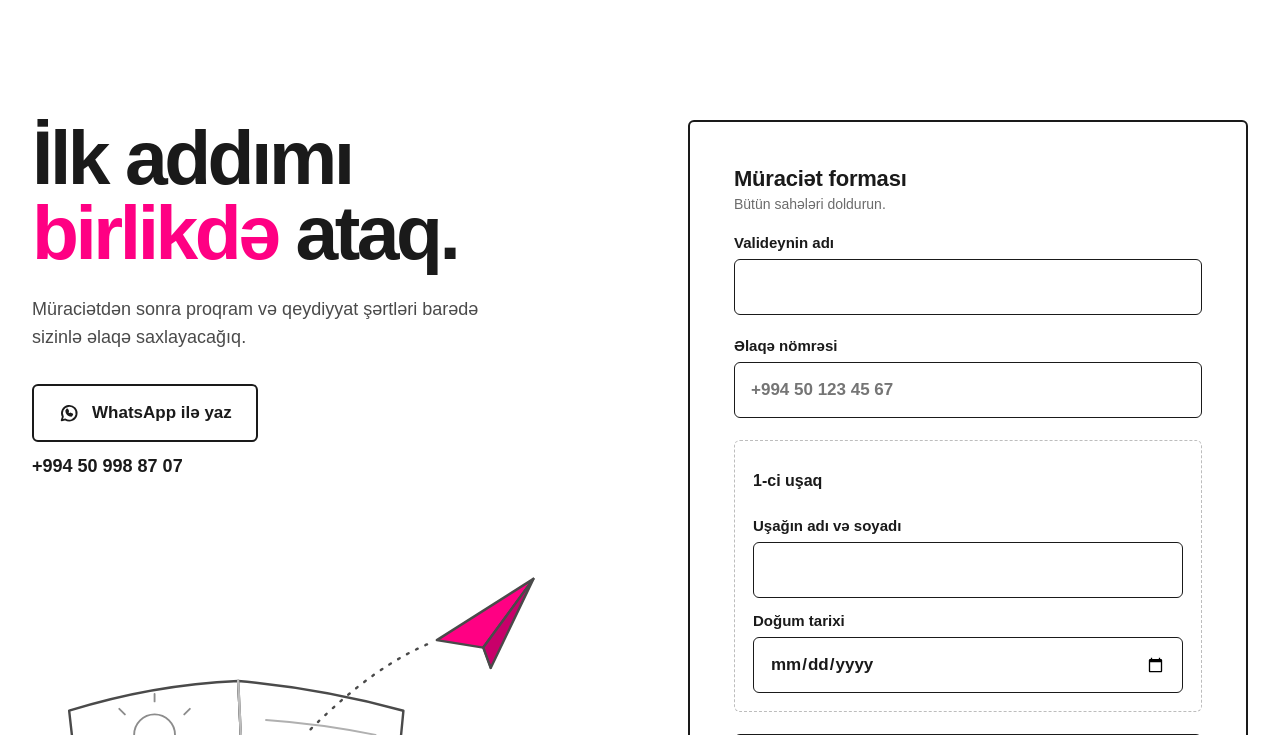
Test: Apply form › children › computes age correctly around the birthday (programme starts 5 December 2026)
The image size is (1280, 735).
Type "2018-12-05" into the date field labelled "Doğum tarixi" at [968, 665], box [753,637,1183,693]
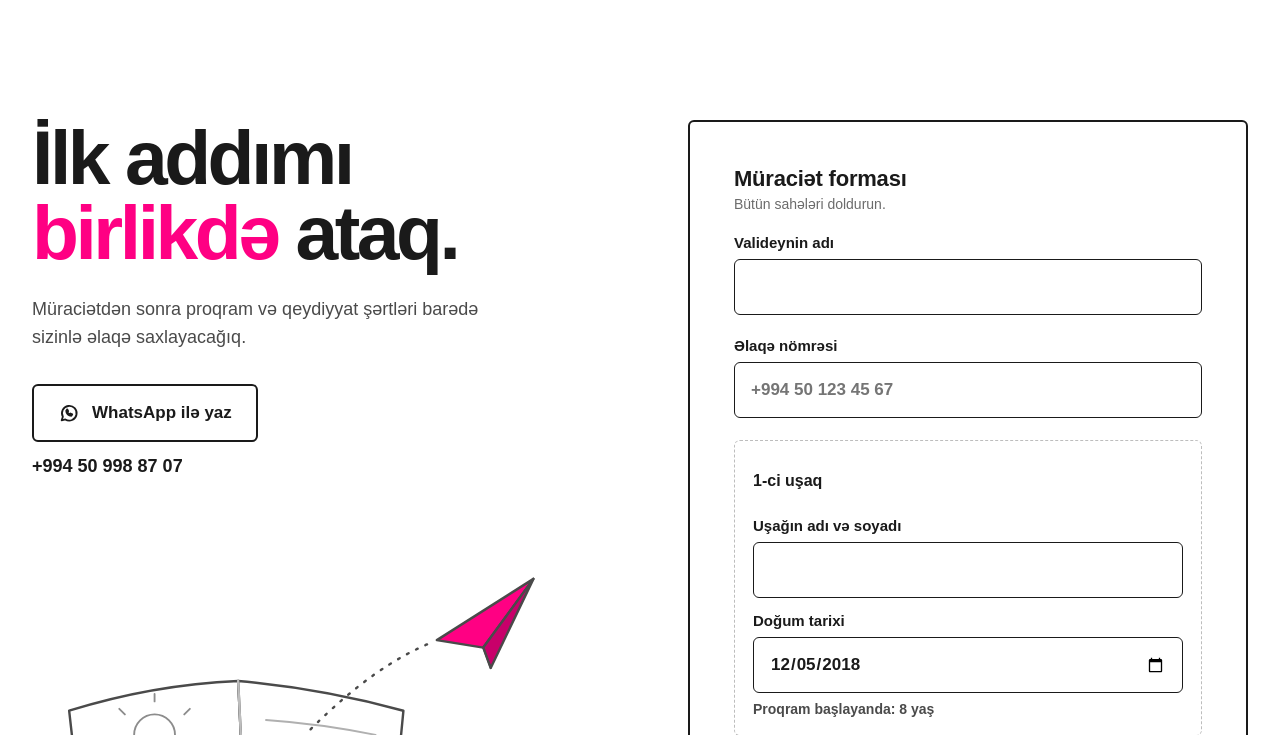
Now the text "Proqram başlayanda: 8 yaş" is shown, box [753,701,934,717]
Type "2018-12-06" into the date field labelled "Doğum tarixi" at [968, 665], box [753,637,1183,693]
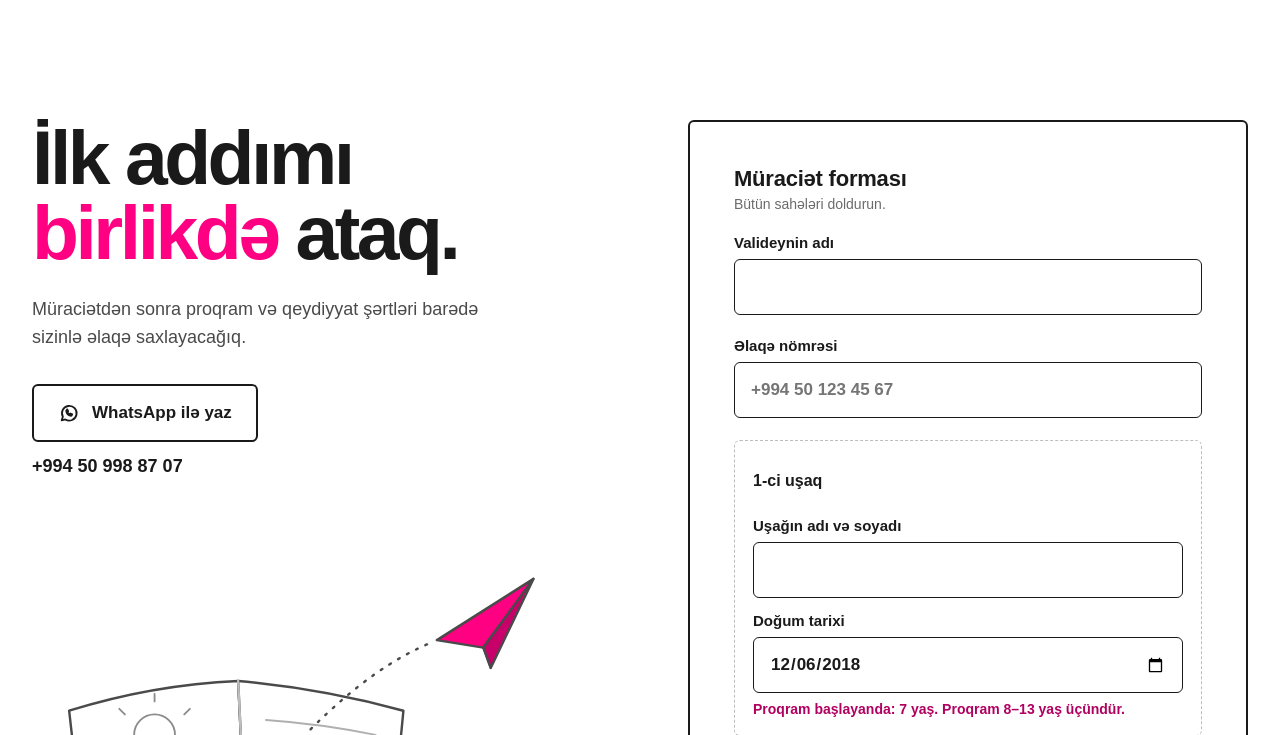
Now the text "Proqram başlayanda: 7 yaş. Proqram 8–13 yaş üçündür." is shown, box [753,701,1183,717]
Type "2018-11-30" into the date field labelled "Doğum tarixi" at [968, 665], box [753,637,1183,693]
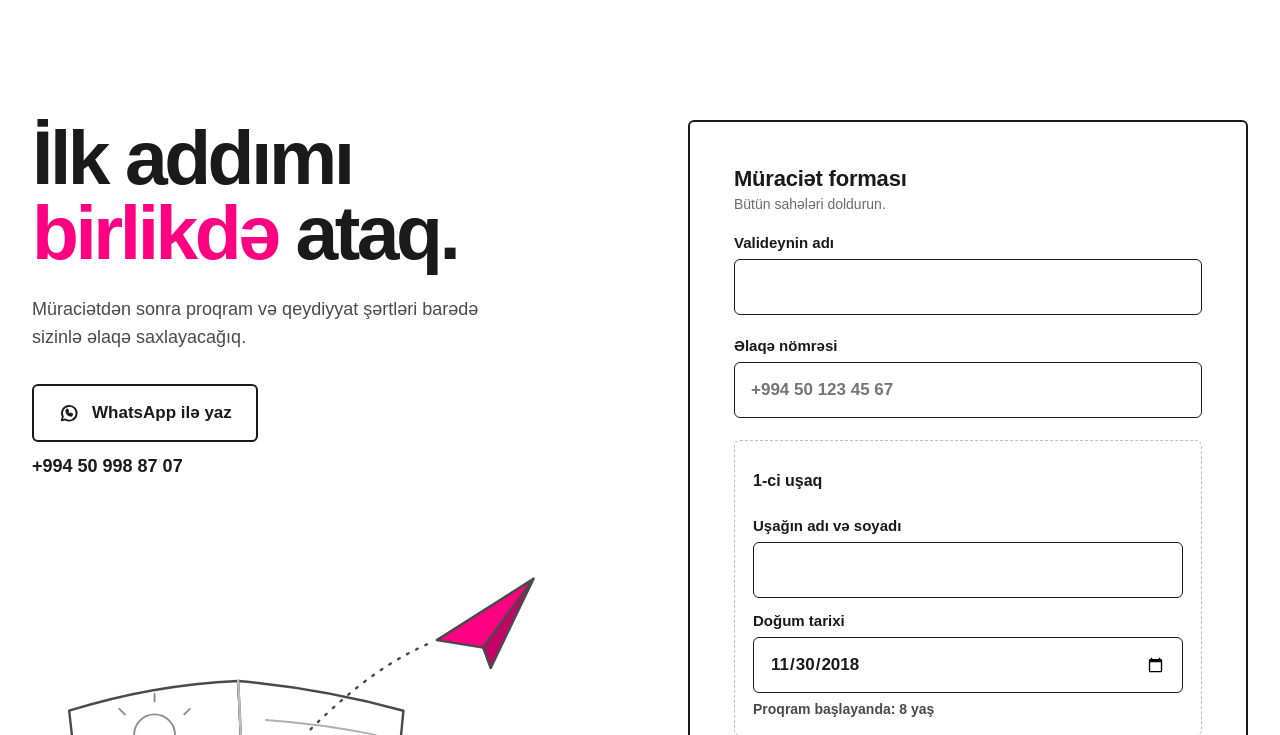
Now the text "Proqram başlayanda: 8 yaş" is shown, box [753,701,934,717]
